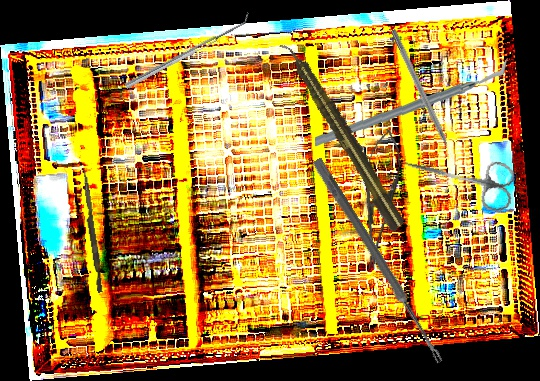Chopper: (314, 48, 509, 157)
Handpiece: (278, 36, 408, 234)
Hook Surgical: (388, 28, 457, 162)
Iris Scissors: (395, 140, 520, 215)
Needle Holder: (354, 126, 405, 272)
Pusher: (78, 169, 106, 293)
Spatula Surgical: (121, 12, 254, 89)
Surgical Spoon: (310, 157, 447, 365)
